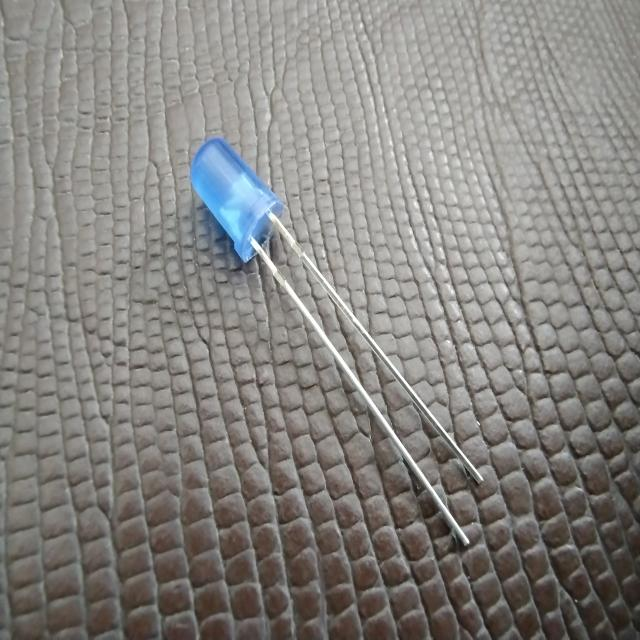blue_led: (189, 135, 284, 264)
